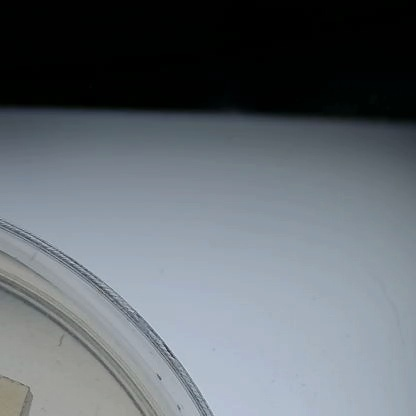worm: (55, 332, 67, 351)
